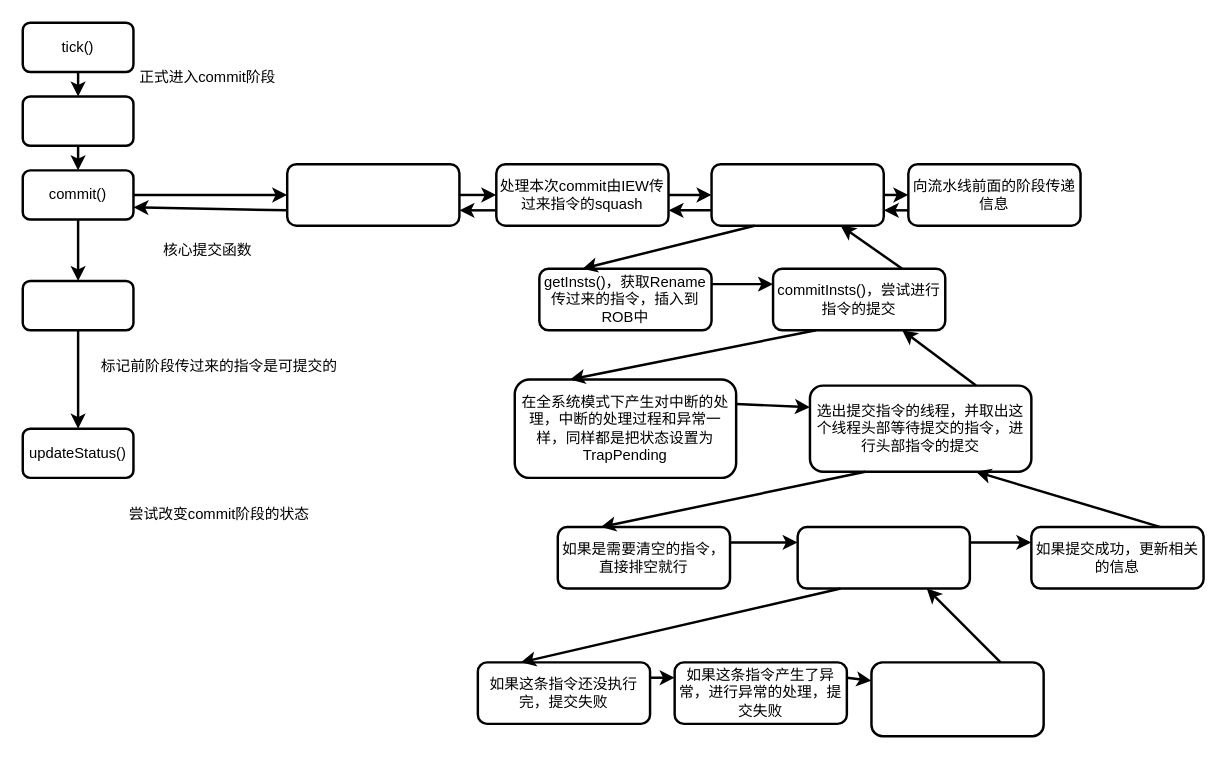
The diagram is 1225 pixels wide and 758 high, and some of its shapes have lost their labels. The shapes that lost their labels are listed below. From the top down, each one's centre as x and y in pixels, then its label:
point (77, 120): ROB 继续标记未完成的清空
point (372, 194): 处理上一个周期commit因为异常等产生的清空
point (797, 194): 处理没有产生squash的正常线程
point (77, 305): markCompleted Insts()
point (883, 557): 如果不是需要清空的指令，尝试提交这条指令
point (957, 699): 如果这条指令执行完且没有异常，更新相关的信息，将这条指令从ROB中移除，提交成功
